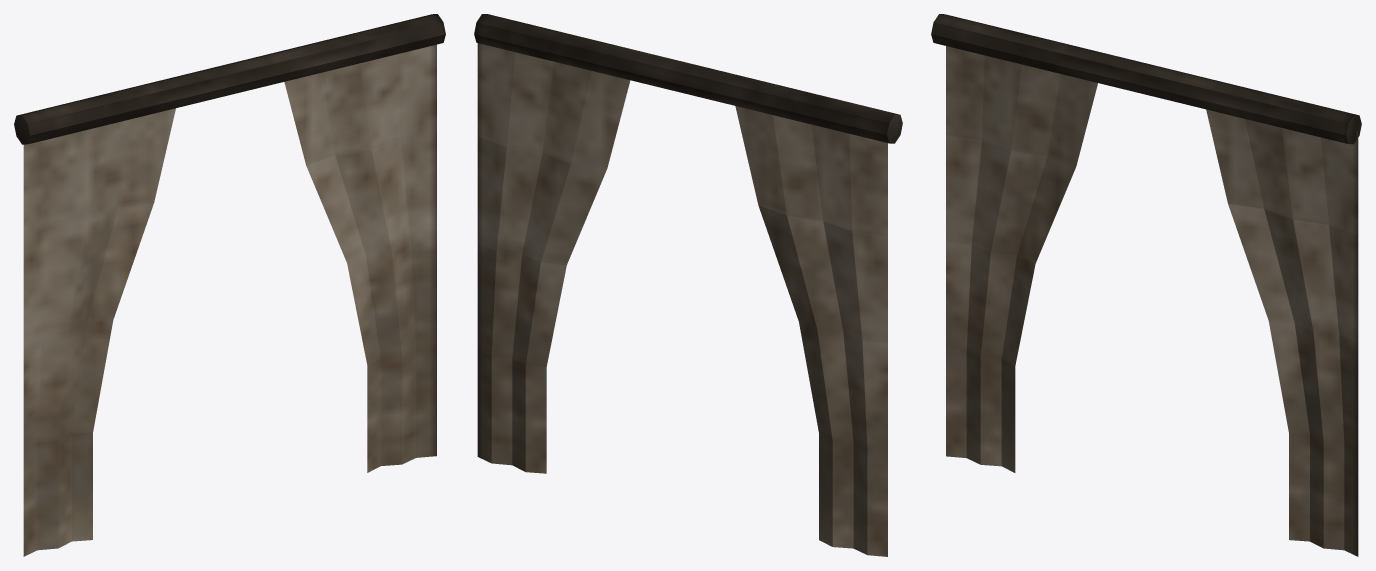
Rendered from SM_EC_House_Curtain_05.fbx.
3 views of the same model, side by side, from view 1: azimuth 30°, elevation 25°; view 2: azimuth 150°, elevation 25°; view 3: azimuth 330°, elevation 25° (orthographic).
Visible parts, largest first — view 1: SM_EC_House_Curtain_05; view 2: SM_EC_House_Curtain_05; view 3: SM_EC_House_Curtain_05.
Part boxes in pixels (<box>): SM_EC_House_Curtain_05: <box>14,14,445,556</box>; SM_EC_House_Curtain_05: <box>474,14,902,556</box>; SM_EC_House_Curtain_05: <box>931,14,1361,556</box>.
Size of the model in its own units: 1.67 by 0.1112 by 1.7.
